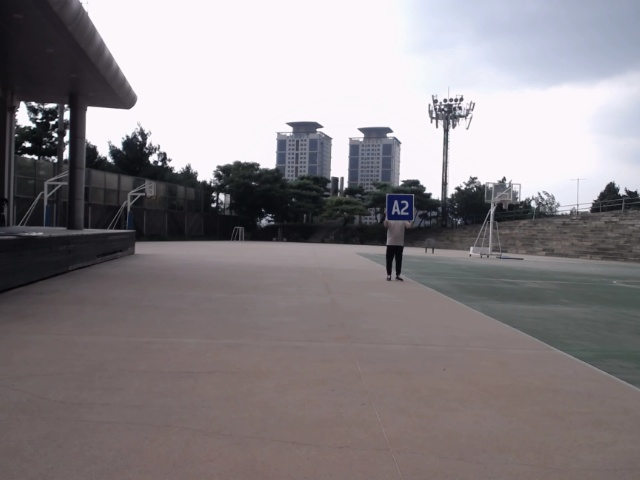delivery_a2: (386, 194, 414, 222)
